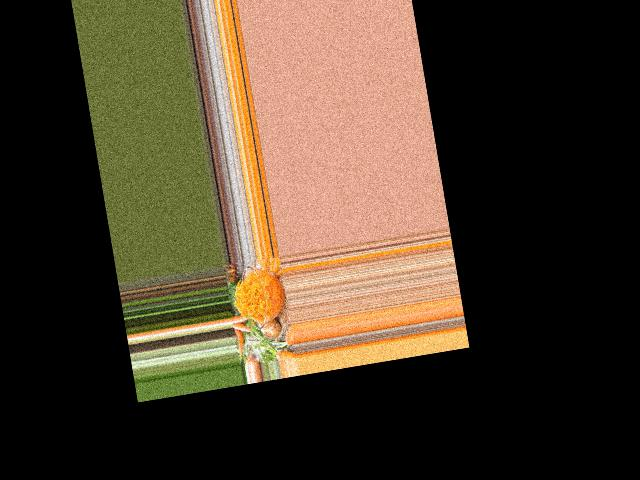carrot: (233, 314, 247, 323)
